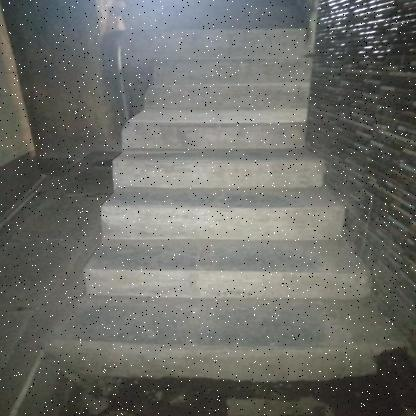stair: (116, 28, 312, 385)
